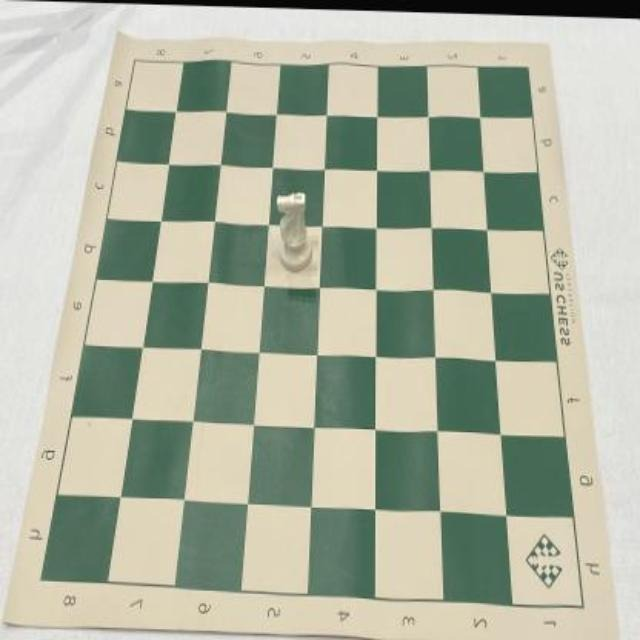white-knight: (277, 189, 313, 272)
